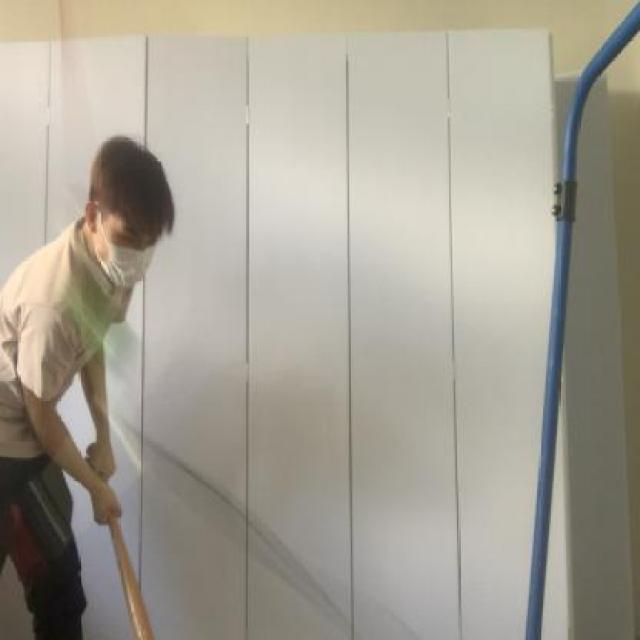baseball: (39, 263, 142, 380)
